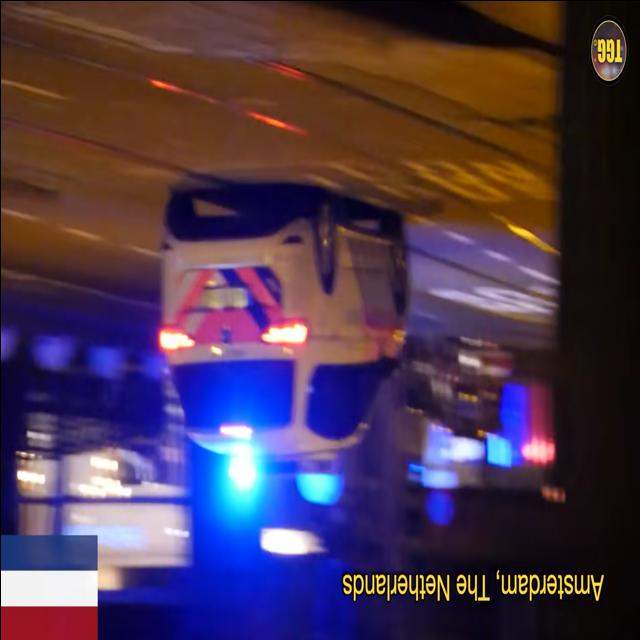emergency-vehicles: (128, 162, 432, 486)
